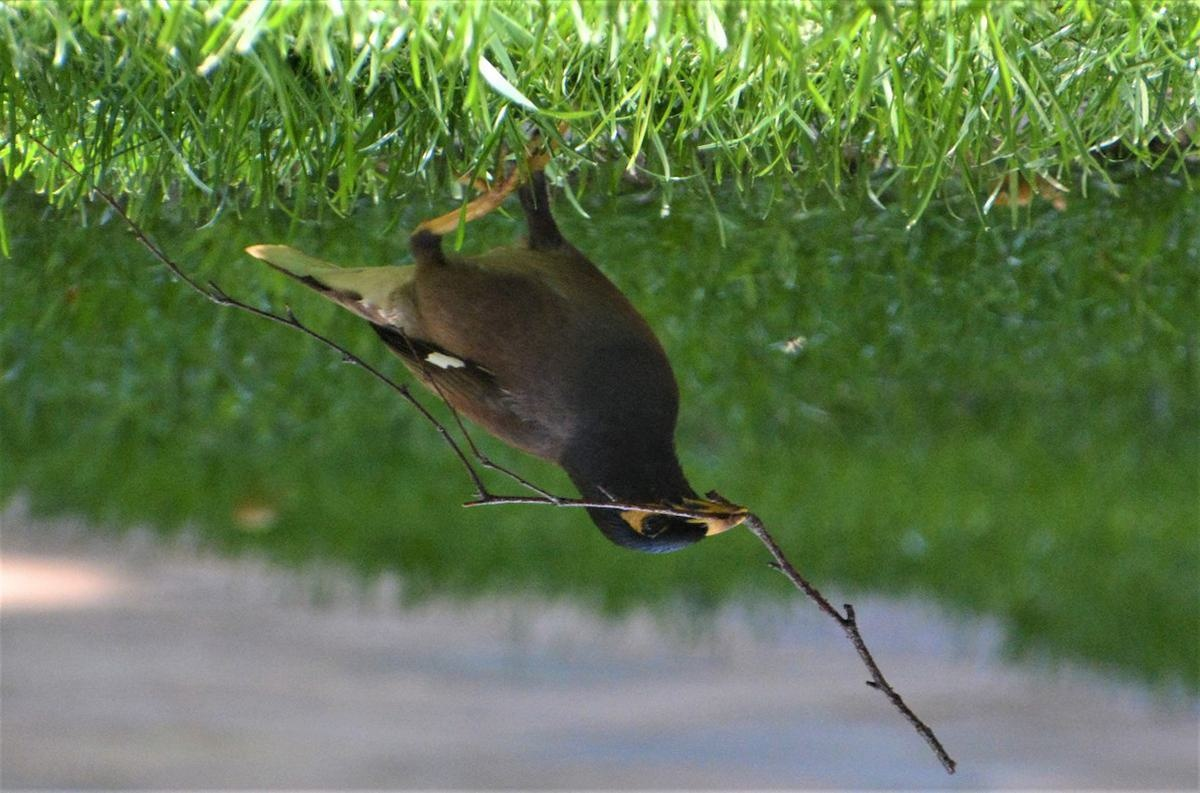myna: (311, 152, 770, 577)
